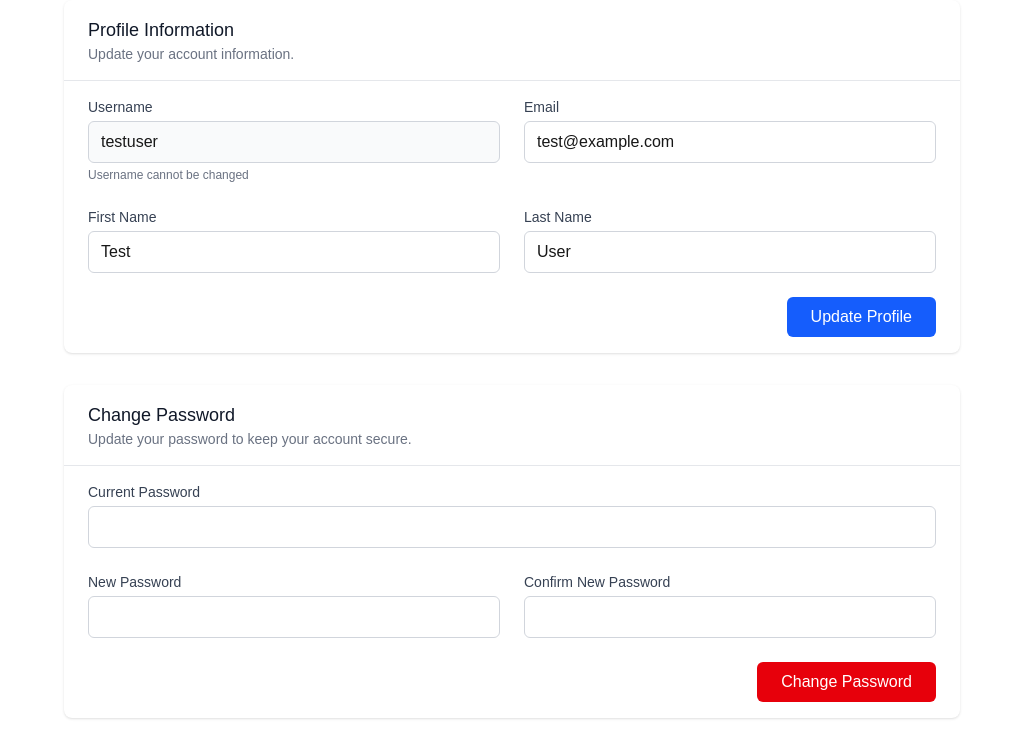
Test case: ProfilePage Component › Error and Success States › should clear errors when forms are resubmitted
The width and height of the screenshot is (1024, 729).
Note: First attempt - should show error
Click the button "Update Profile" at (861, 317), box [787,297,936,337]
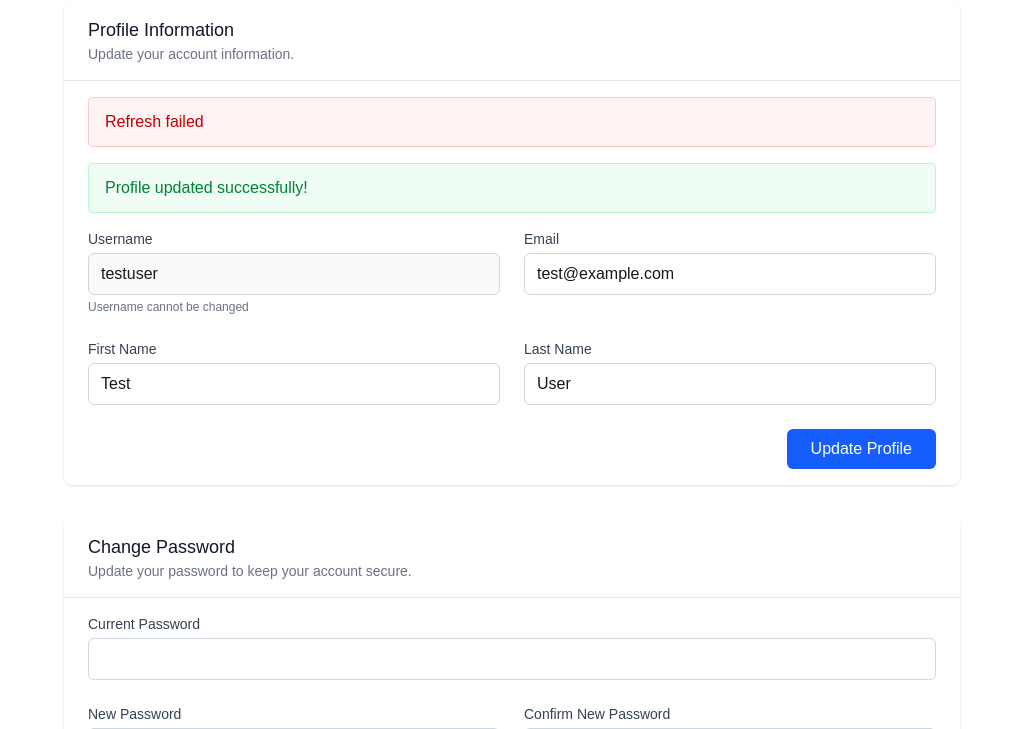
Check: the text "Refresh failed" is shown, box [88,97,936,147]
Note: Second attempt - should clear error and show success
Click the button "Update Profile" at (861, 449), box [787,429,936,469]
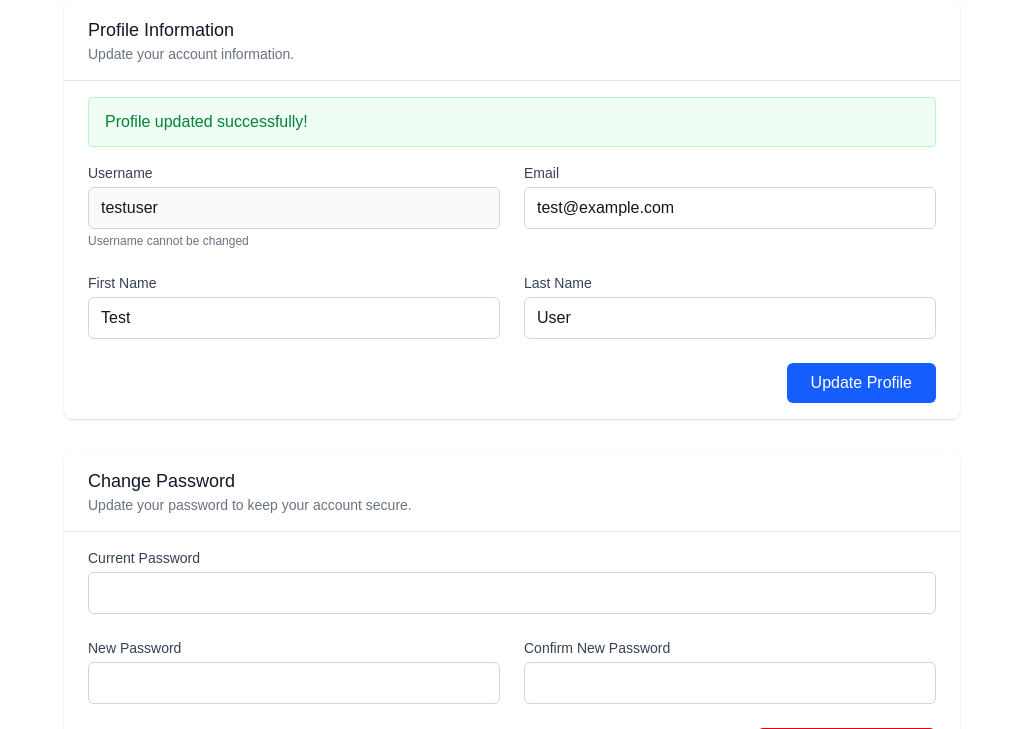
Check: the text "Profile updated successfully!" is shown, box [88,97,936,147]
Check: the text "Refresh failed" is gone
